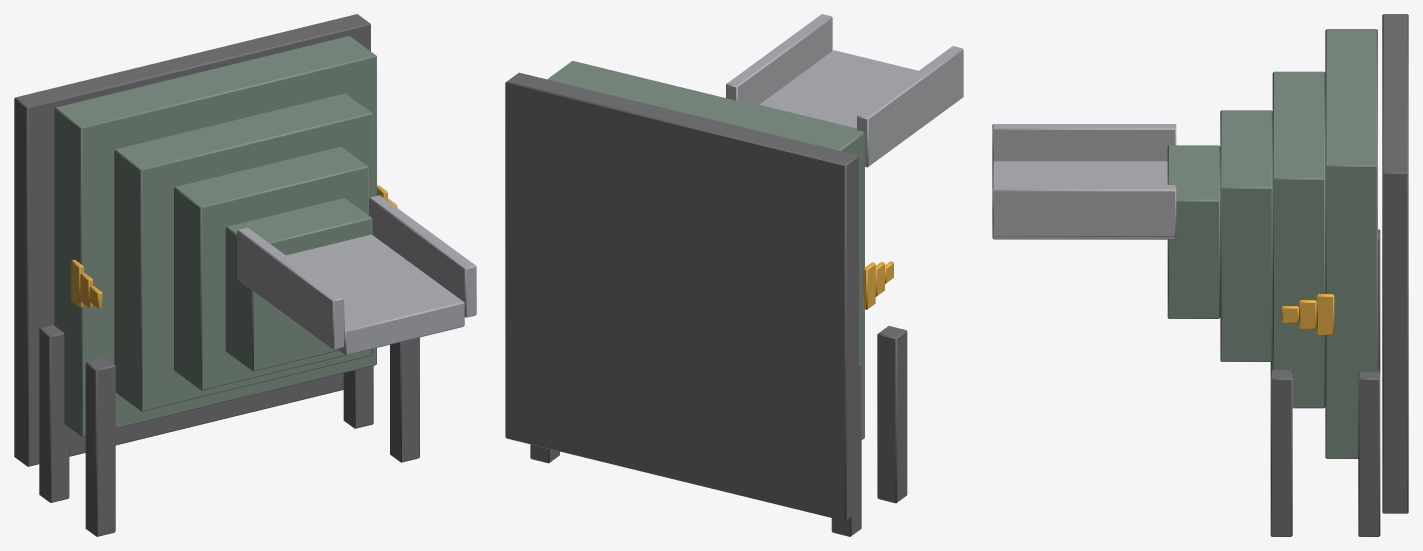
The model's file is feFunnel.fbx.
The picture shows the model from 3 angles, left to right: view 1: azimuth 30°, elevation 25°; view 2: azimuth 150°, elevation 25°; view 3: azimuth 270°, elevation 25°; orthographic projection. The views are drawn at different scales.
Visible parts, largest first — view 1: feFunnel_Base; view 2: feFunnel_Base; view 3: feFunnel_Base.
Part boxes in pixels (x1=…): feFunnel_Base: x1=14, y1=14, x2=476, y2=536; feFunnel_Base: x1=505, y1=14, x2=963, y2=536; feFunnel_Base: x1=992, y1=14, x2=1408, y2=536.
Size of the model in its own units: 0.86 by 0.93 by 0.95.
